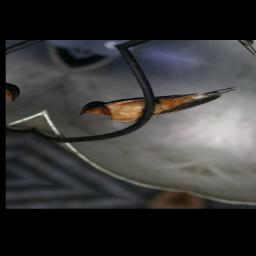Swallow: (73, 59, 240, 142)
